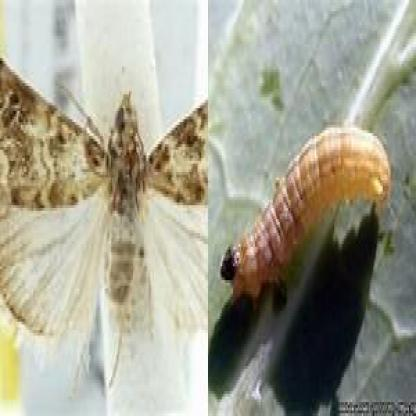Hellula undalis: (1, 59, 207, 396)
